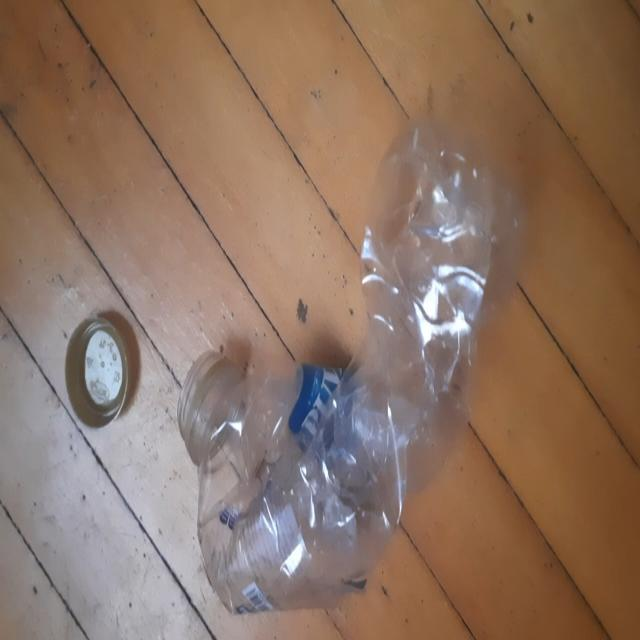Plastic: (179, 119, 519, 615)
